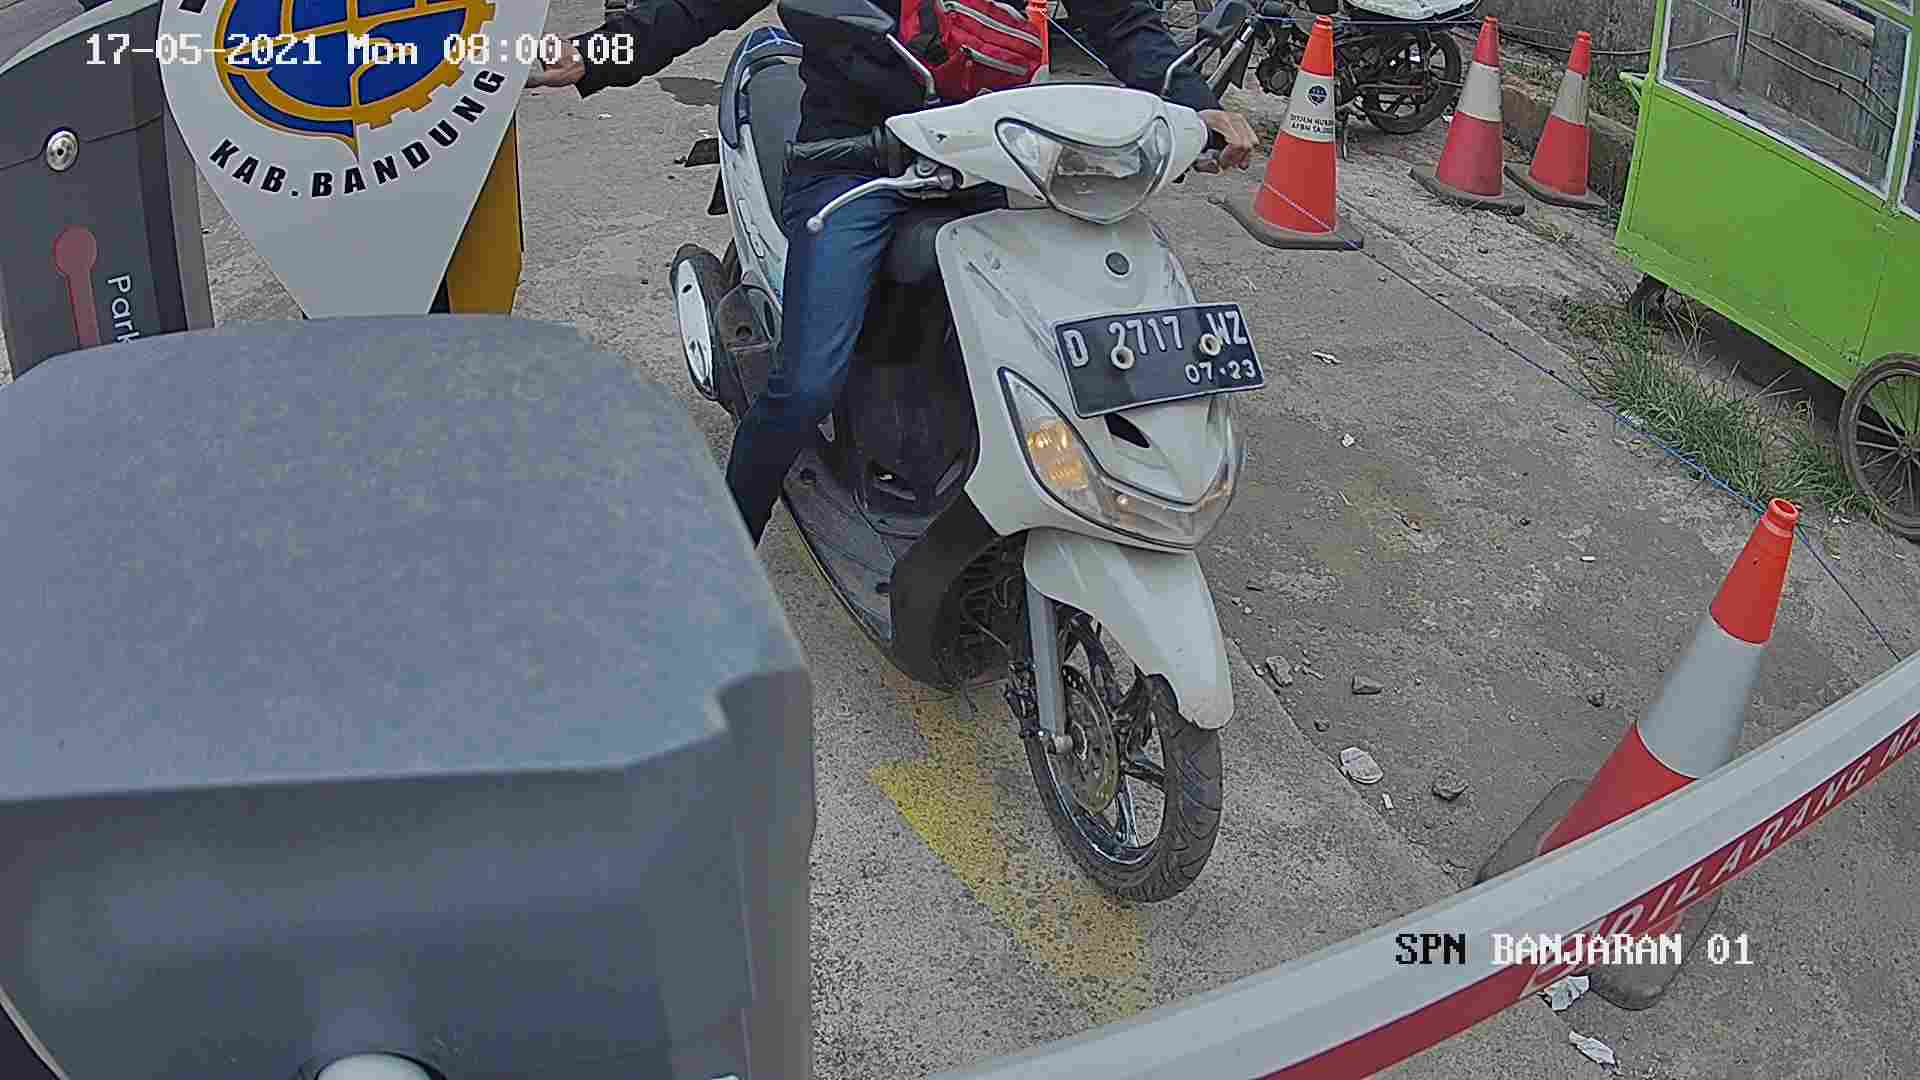motor: (676, 28, 1253, 906)
